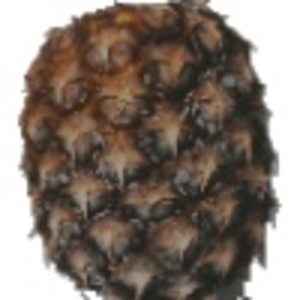abacaxi: (14, 3, 283, 297)
